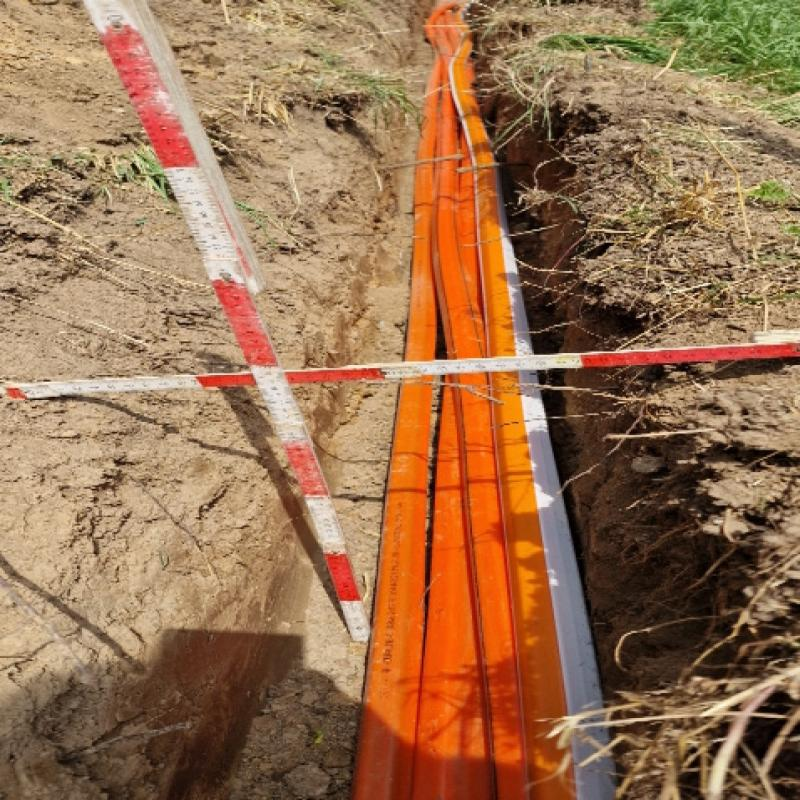Orang-Speednetrohrchen: (360, 372, 572, 799), (396, 99, 517, 363)
